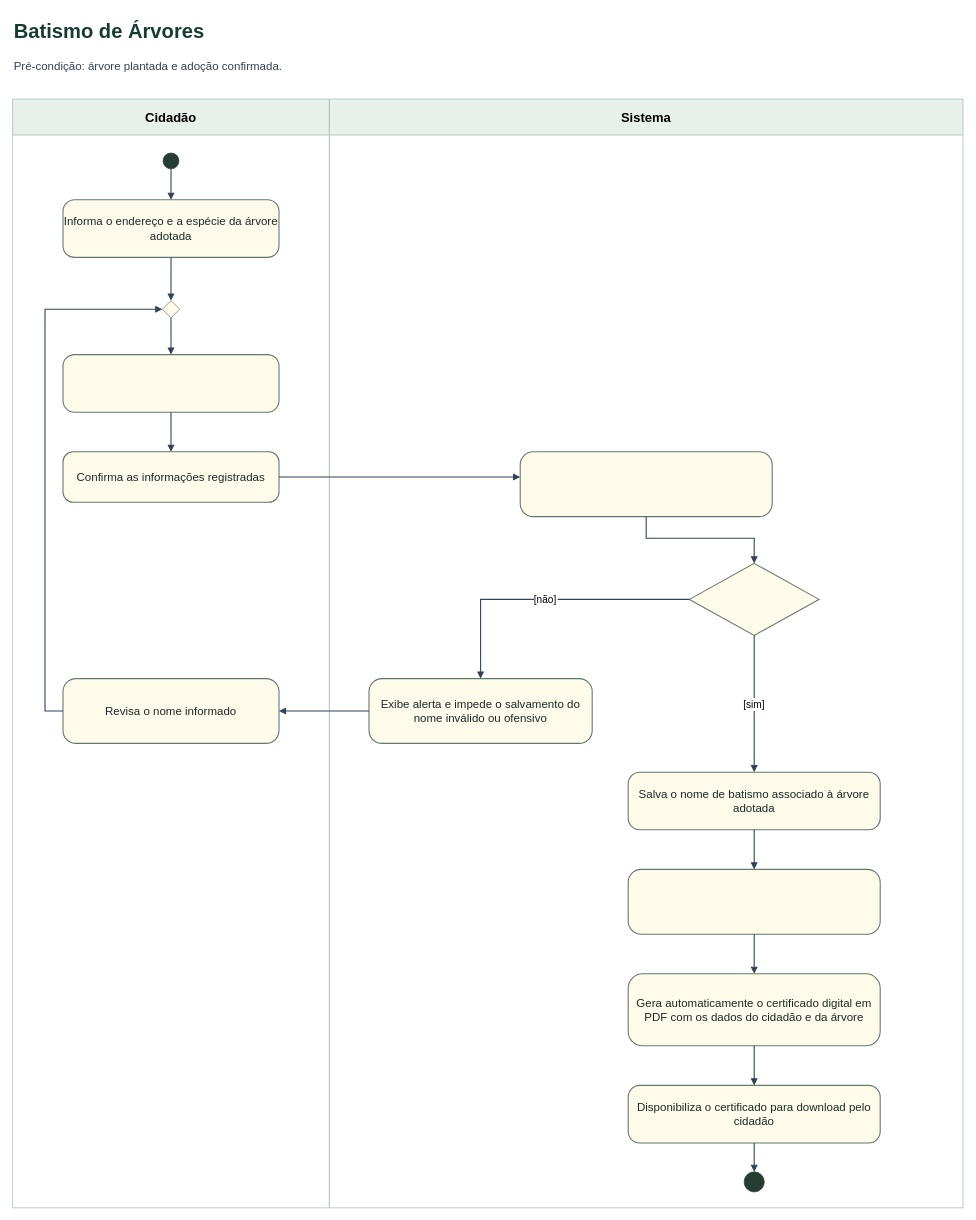
Some shapes in this 976 by 1220 pixel diagram are drawn without their labels. The box of each missing label's shape, as (x1, y1, x2, y2) in pixels:
Disponibiliza a identificação da árvore no perfil do cidadão e no mapa público: (627, 869, 880, 934)
Informa o nome com o qual deseja batizar a árvore: (62, 354, 279, 412)
Nome permitido?: (689, 563, 819, 636)
Verifica o nome informado e a presença de palavras inválidas ou ofensivas: (519, 451, 772, 517)
